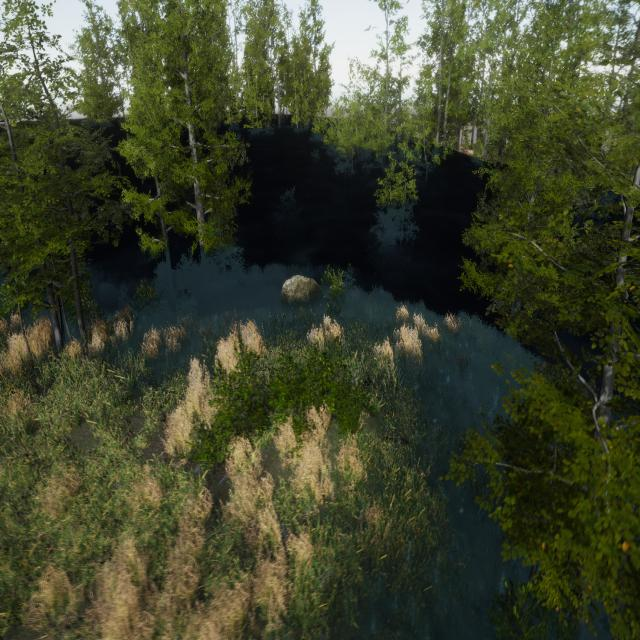Human: (307, 320, 321, 349)
